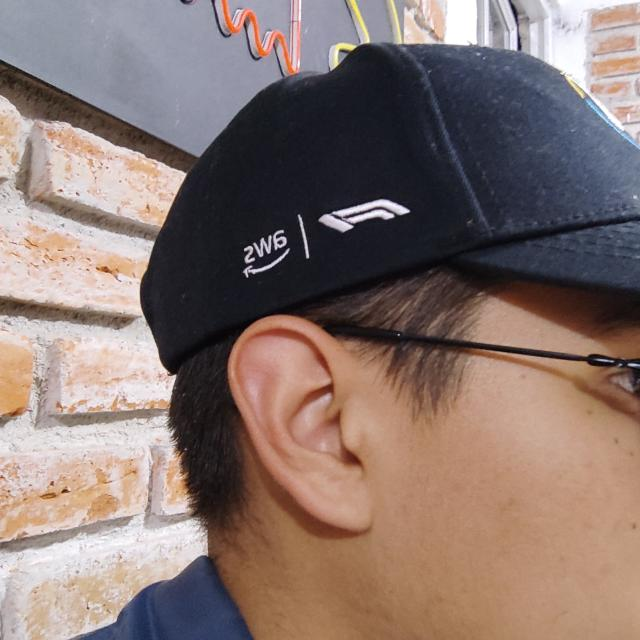ear: (227, 315, 375, 533)
